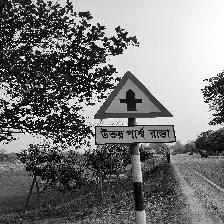Crossroad: (82, 63, 190, 152)
